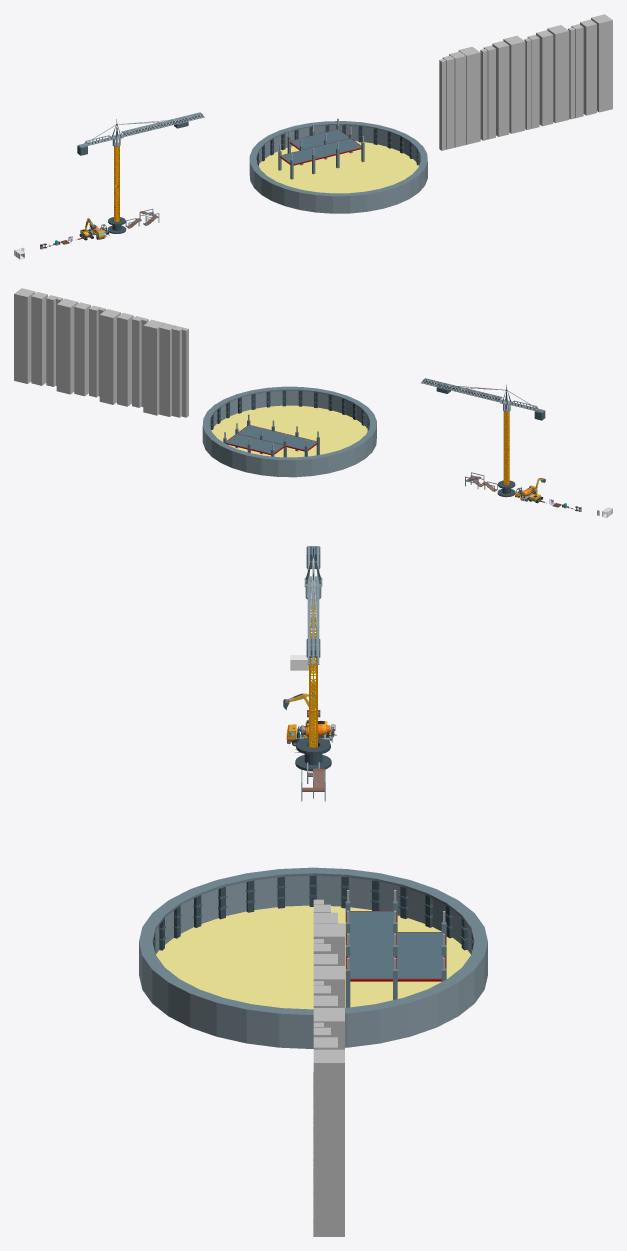
Rendered from Props.fbx.
3 views of the same model, one above another, from view 1: azimuth 30°, elevation 25°; view 2: azimuth 150°, elevation 25°; view 3: azimuth 270°, elevation 25° (orthographic). The views are drawn at different scales.
Visible parts, largest first — view 1: p_u_HubWalls, p_u_HubStructure, p_u_GreenBulding_9W, p_u_RedBulding_9W, p_u_GreyBuilding_9W, p_u_BlueBulding_9W, p_u_GreenBulding_7W, p_u_RedBuilding_7W, p_u_GreyBuilding_7W, p_Crane_Top, p_u_BlueBulding_7W, p_u_BlueBulding_5W (+8 smaller); view 2: p_u_HubWalls, p_u_HubStructure, p_u_GreenBulding_9W, p_u_GreyBuilding_9W, p_u_RedBulding_9W, p_u_BlueBulding_9W, p_u_GreyBuilding_7W, p_u_GreenBulding_7W, p_u_RedBuilding_7W, p_u_BlueBulding_7W, p_Crane_Top, p_u_RedBuilding_5W (+5 smaller); view 3: p_u_HubWalls, p_u_HubStructure, p_u_GreyBuilding_9W, p_Crane_Bot, p_Crane_Top.
Boxes of the visible parts, box(x1,y1,x2,y2) form: p_u_HubWalls: box(249, 121, 427, 213); p_u_HubStructure: box(278, 118, 364, 179); p_u_GreenBulding_9W: box(547, 25, 569, 123); p_u_RedBulding_9W: box(503, 35, 525, 133); p_u_GreyBuilding_9W: box(591, 14, 612, 112); p_u_BlueBulding_9W: box(458, 46, 480, 144); p_u_GreenBulding_7W: box(536, 30, 553, 126); p_u_RedBuilding_7W: box(492, 41, 509, 136); p_u_GreyBuilding_7W: box(580, 19, 596, 115); p_Crane_Top: box(77, 112, 204, 155); p_u_BlueBulding_7W: box(449, 51, 465, 147); p_u_BlueBulding_5W: box(442, 55, 454, 149); p_u_HubWalls: box(202, 386, 376, 477); p_u_HubStructure: box(223, 414, 319, 457); p_u_GreenBulding_9W: box(56, 298, 78, 394); p_u_GreyBuilding_9W: box(14, 288, 35, 383); p_u_RedBulding_9W: box(99, 309, 120, 404); p_u_BlueBulding_9W: box(143, 319, 164, 415); p_u_GreyBuilding_7W: box(31, 292, 47, 385); p_u_GreenBulding_7W: box(74, 302, 90, 396); p_u_RedBuilding_7W: box(117, 313, 133, 406); p_u_BlueBulding_7W: box(159, 323, 175, 416); p_Crane_Top: box(421, 378, 545, 420); p_u_RedBuilding_5W: box(132, 316, 143, 407); p_u_HubWalls: box(139, 867, 487, 1048); p_u_HubStructure: box(345, 890, 446, 1007); p_u_GreyBuilding_9W: box(313, 1049, 344, 1236); p_Crane_Bot: box(295, 601, 331, 771); p_Crane_Top: box(304, 546, 322, 664).
Bounding box in the file's own units: 23240 × 4125 × 6000.
